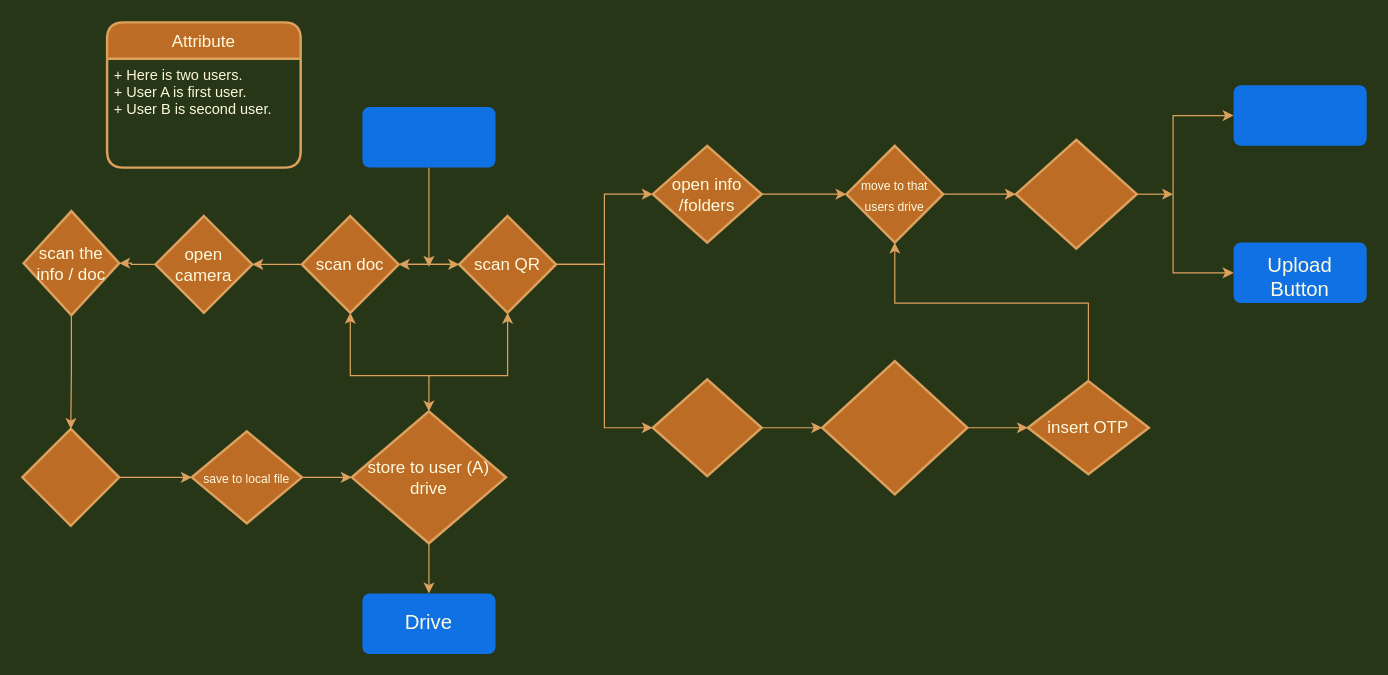
Image size: 1388x675. Some labels were removed from this diagram. Each missing label, with the centre of its shape:
"ask permission to user (B)" belongs at [894,427].
"convert to pdf" belongs at [70,476].
"Download Button" belongs at [1299,115].
"lock folders" belongs at [706,427].
"Scan Button" belongs at [428,137].
"show docs or information" belongs at [1075,193].
